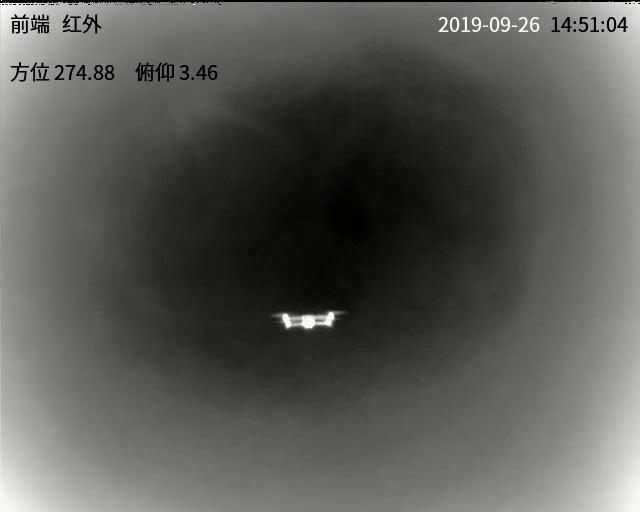DRONE: (276, 310, 340, 331)
